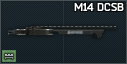M14 SAGE International DCSB mount: (0, 0, 127, 64)
